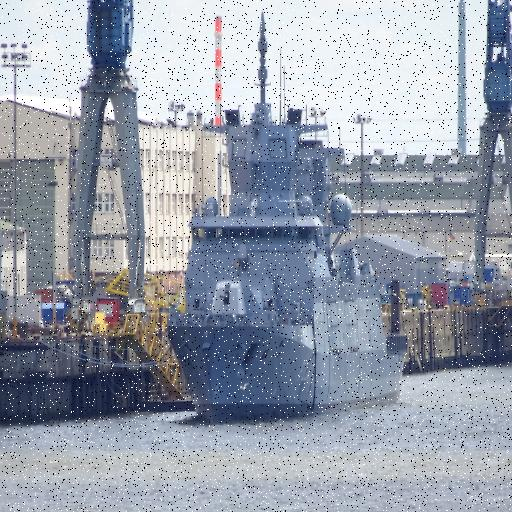Fragata: (168, 11, 407, 428)
